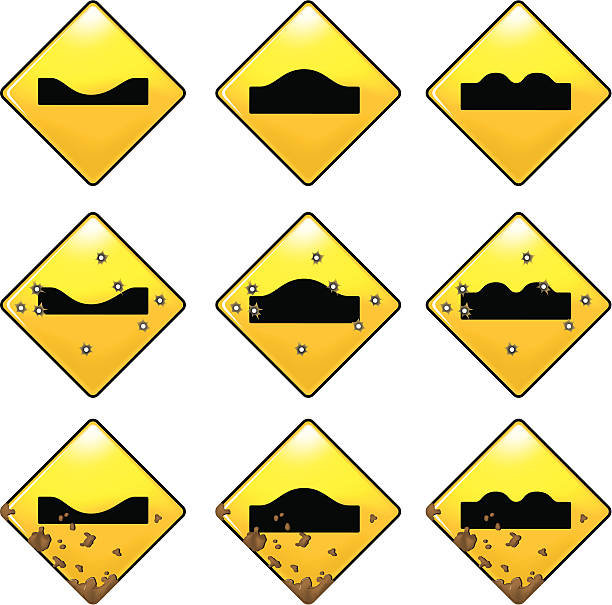speed-breaker: (425, 1, 612, 188), (213, 212, 400, 398), (426, 211, 610, 398), (426, 419, 612, 603), (216, 420, 401, 604), (216, 1, 400, 185)
